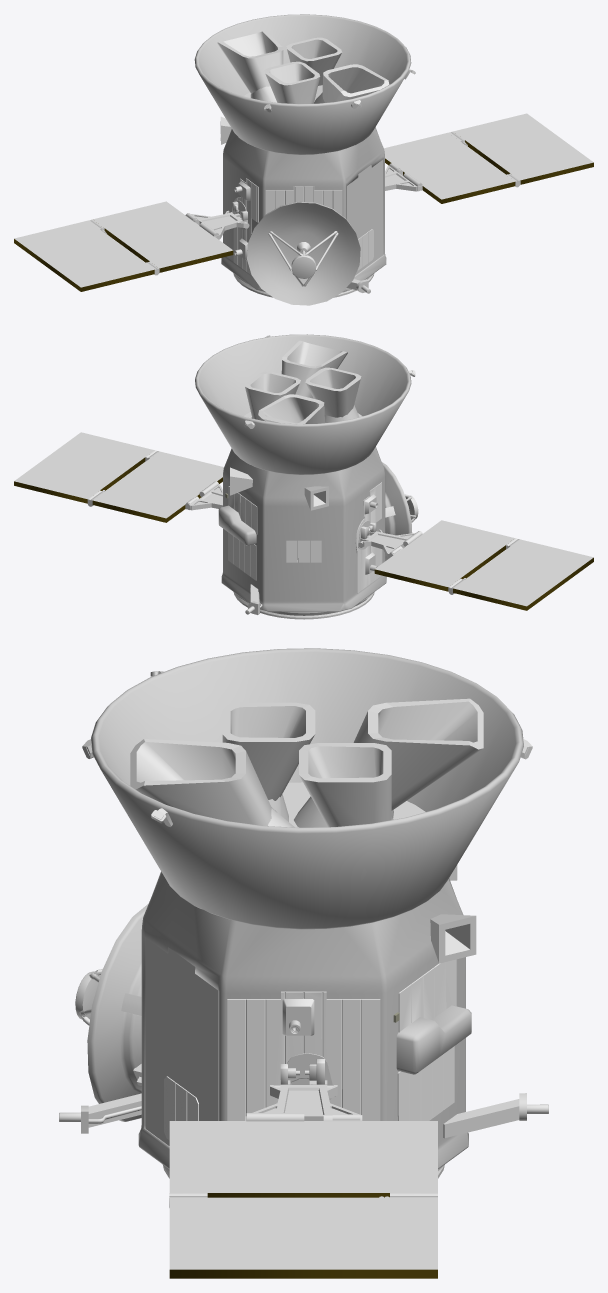
Rendered from Tess.glb.
The picture shows the model from 3 angles, top to bottom: view 1: azimuth 30°, elevation 25°; view 2: azimuth 150°, elevation 25°; view 3: azimuth 270°, elevation 25°; orthographic projection. The views are drawn at different scales.
Visible parts, largest first — view 1: instruments, BUS, reflectors; view 2: BUS, instruments, reflectors; view 3: BUS, instruments, reflectors.
Part boxes in pixels (x1,y1,x2,y2): instruments: (14,30,593,305); BUS: (194,14,411,291); reflectors: (233,178,373,275); BUS: (195,334,412,611); instruments: (14,335,593,619); reflectors: (228,482,382,593); BUS: (87,648,523,1168); instruments: (59,671,548,1278); reflectors: (164,959,456,1140).
Size of the model in its own units: 7.39 by 3.1 by 3.06.
